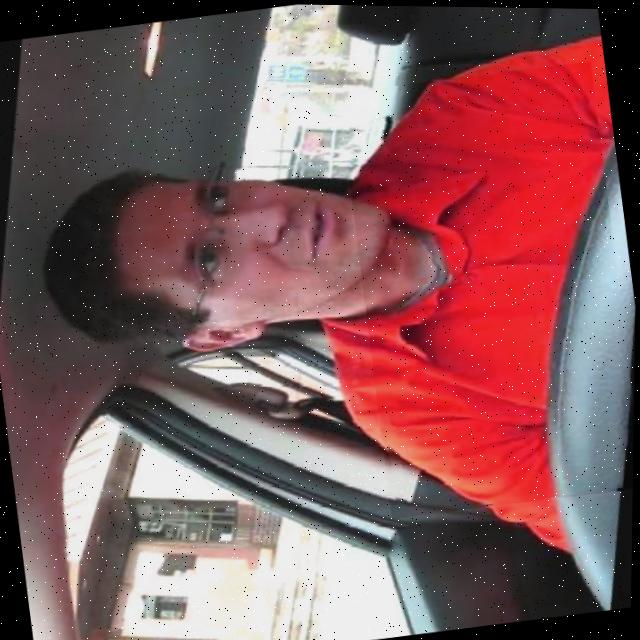no-seatbelt: (333, 57, 639, 520)
